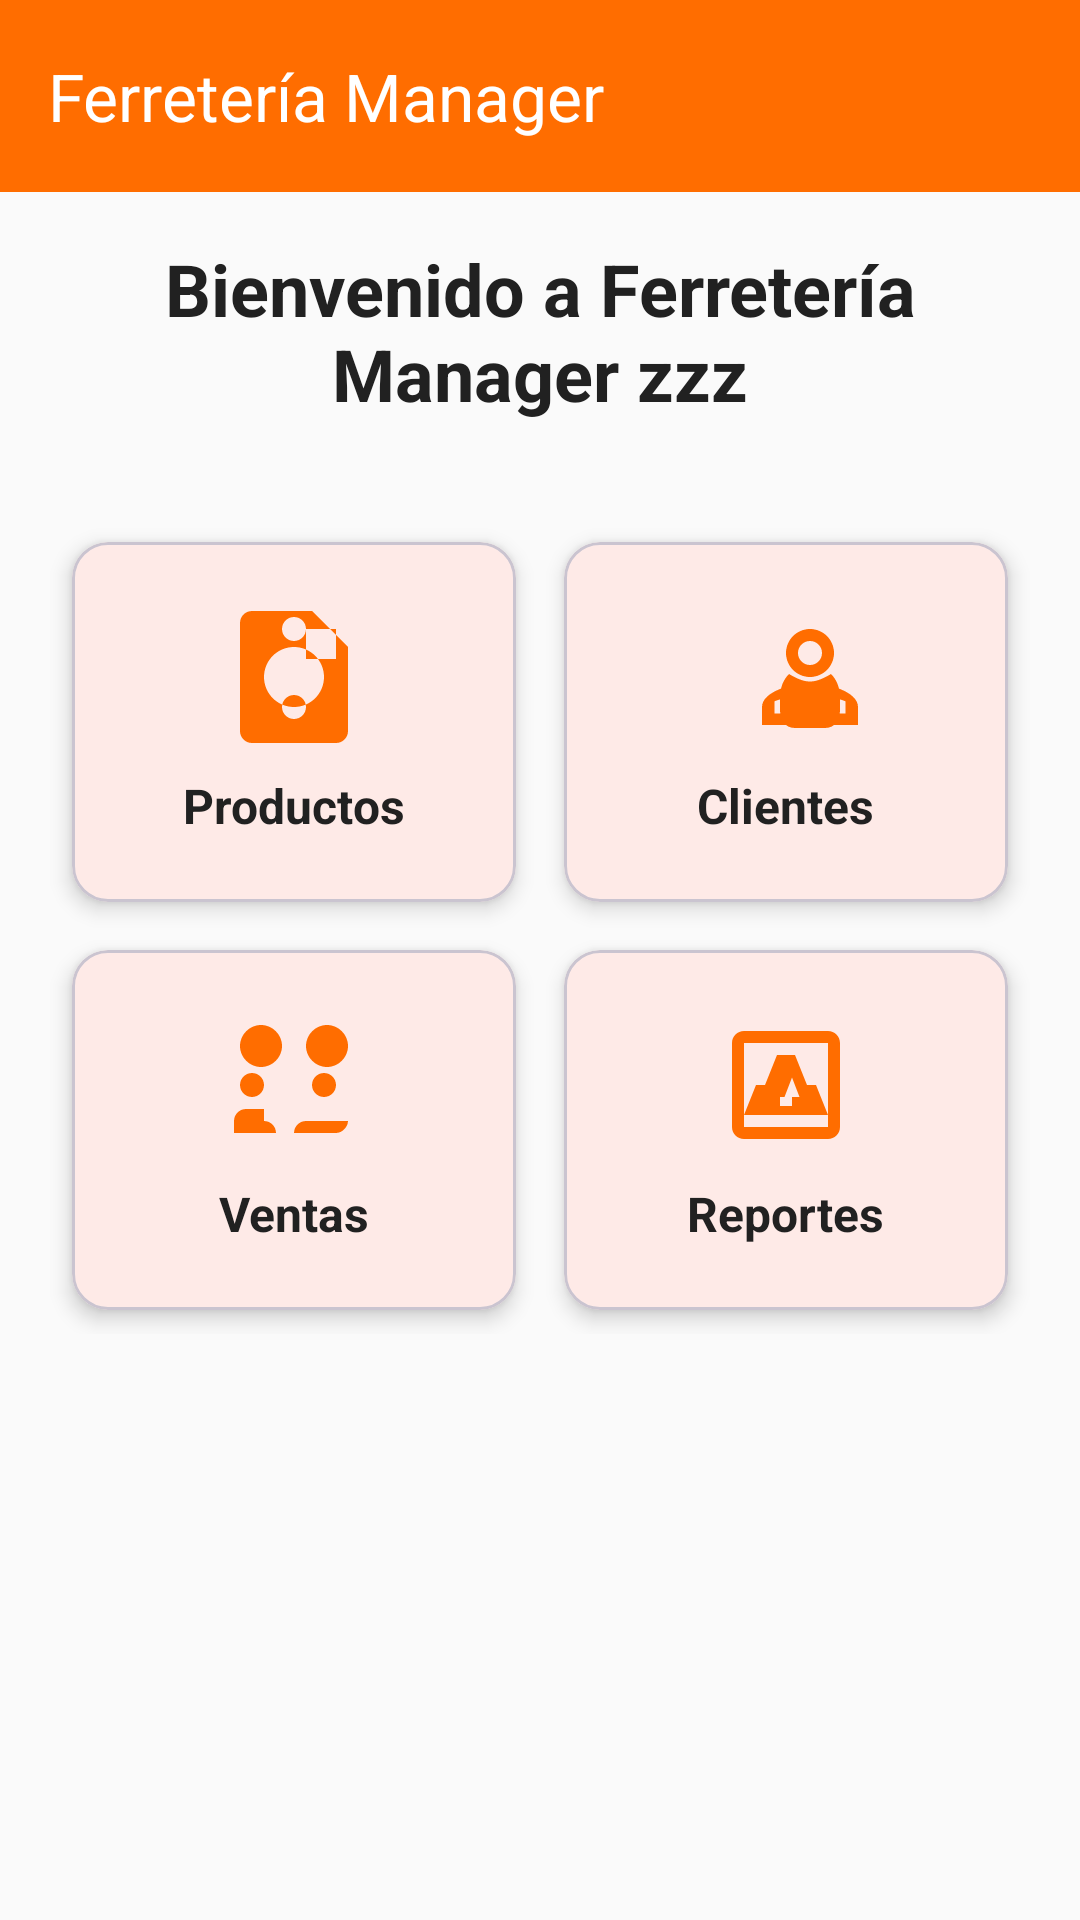

Icon click points for this 1080×1920 phone screenshot, format (x,y):
customers: (810,678)
